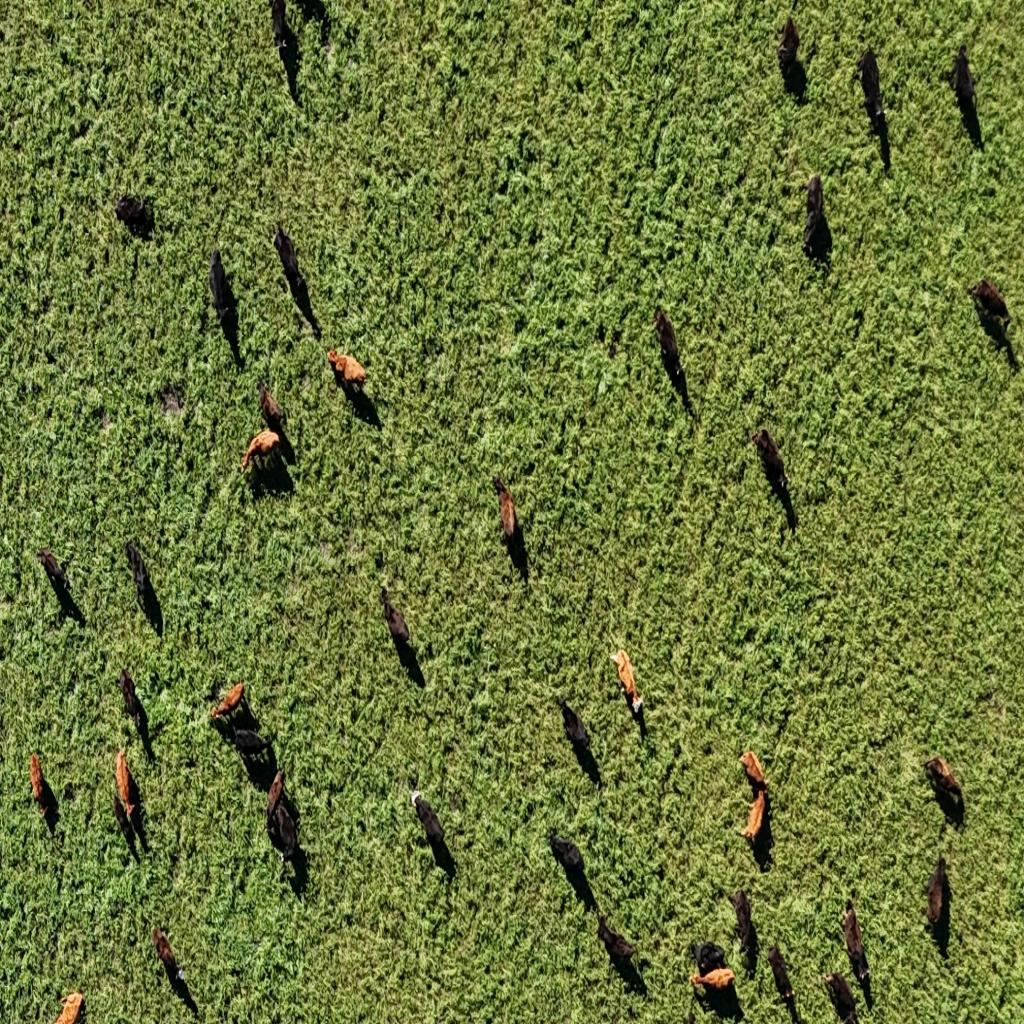cow: (413, 789, 453, 862), (854, 47, 886, 135), (840, 900, 871, 984), (737, 784, 777, 848), (264, 804, 304, 866), (653, 307, 683, 383), (152, 928, 186, 994), (612, 648, 644, 718), (752, 427, 788, 489), (273, 225, 304, 297), (208, 250, 235, 330), (495, 478, 522, 558), (968, 279, 1012, 328), (596, 914, 638, 965), (802, 176, 828, 258), (380, 586, 411, 654), (733, 738, 776, 786), (728, 889, 756, 962), (557, 694, 591, 753), (230, 725, 274, 770), (241, 428, 281, 477), (824, 970, 860, 1024), (924, 758, 963, 806), (950, 44, 977, 112), (549, 833, 585, 883), (118, 668, 145, 734), (925, 855, 948, 932), (327, 350, 366, 394), (210, 680, 247, 724), (767, 944, 794, 1004), (36, 549, 68, 597), (688, 940, 728, 978), (115, 750, 137, 818), (258, 380, 284, 437), (113, 194, 150, 232), (126, 541, 152, 595), (776, 15, 799, 72), (689, 966, 735, 991), (50, 990, 83, 1024), (264, 768, 286, 818), (270, 1, 289, 55), (29, 752, 45, 808), (556, 694, 566, 714), (380, 584, 390, 604)
